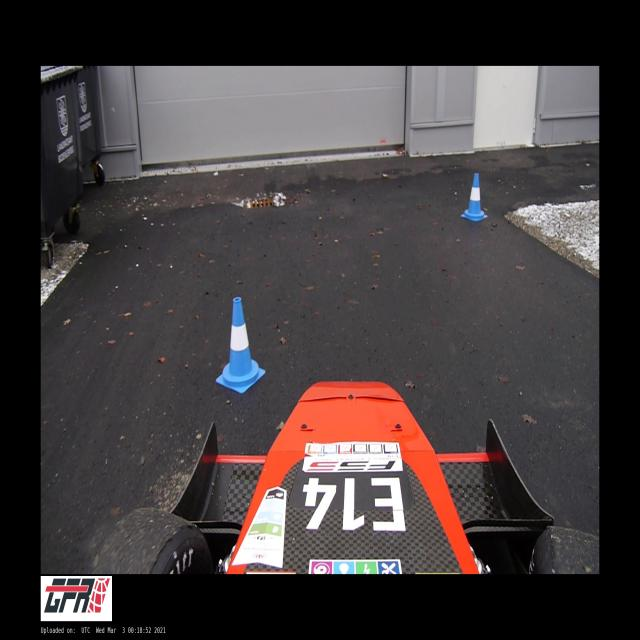blue_cone: (216, 297, 265, 393), (461, 173, 487, 222)
